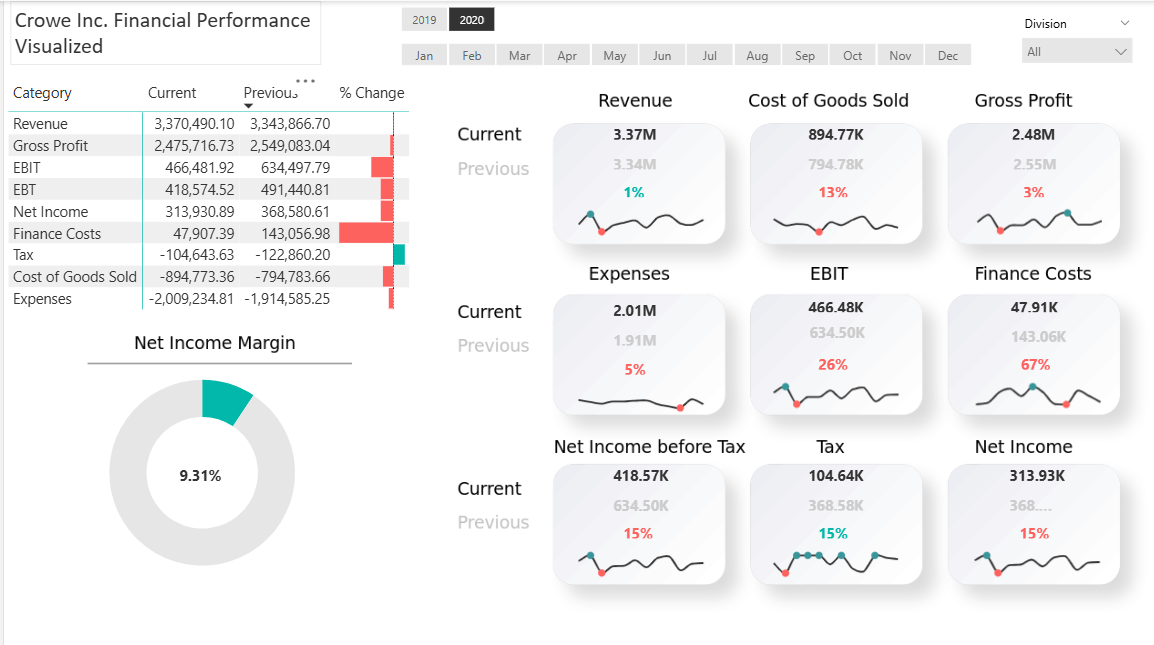

The page's visual inventory and layout, read from the dashboard file:
{"tool":"powerbi","page":{"name":"Financial Performance Snapshot","canvas":[1280,720],"ordinal":0},"visuals":[{"type":"pivotTable","fields":{"Rows":["Layout.Category"],"Values":["My Measure.Current","My Measure.Previuos","My Measure.% Change"]},"box":[0,82.5,475,310],"z":0},{"type":"slicer","fields":{"Values":["Calendar.Year"]},"box":[410.3,0,152.3,39.8],"z":1000},{"type":"donutChart","fields":{"Y":["My Measure.Net Income Margin","My Measure.Inv Net Income Margin"]},"box":[45,385,345,265],"z":2000},{"type":"cardVisual","fields":{"Data":["My Measure.Net Income Margin"]},"box":[175,472.5,82.5,87.5],"z":3000},{"type":"group","id":"g1","title":"Group 1","box":[613,126.2,175.5,138],"z":4000},{"type":"cardVisual","fields":{"Data":["KPI.Revenue Current"]},"box":[651.3,126.2,97.5,31.2],"z":4000,"group":"g1"},{"type":"cardVisual","fields":{"Data":["KPI.Gross Profit Current"]},"box":[1090,126.2,97.5,31.2],"z":4000,"group":"g2"},{"type":"cardVisual","fields":{"Data":["KPI.EBIT Current"]},"box":[866.3,315,97.5,31.2],"z":4000,"group":"g4"},{"type":"cardVisual","fields":{"Data":["KPI.Expenses Current"]},"box":[651,320,97.5,31.2],"z":4000,"group":"g3"},{"type":"cardVisual","fields":{"Data":["KPI.EBT Current"]},"box":[651.3,501,97.5,31.2],"z":4000,"group":"g7"},{"type":"cardVisual","fields":{"Data":["KPI.Net Profit Current"]},"box":[1087.3,501,97.5,31.2],"z":4000,"group":"g9"},{"type":"cardVisual","fields":{"Data":["KPI.COGS Current"]},"box":[866.3,126.2,97.5,31.2],"z":5000,"group":"g5"},{"type":"group","id":"g2","title":"Group 1","box":[1050.9,126.2,175,137.2],"z":5000},{"type":"cardVisual","fields":{"Data":["KPI.Gross Profit Previous"]},"box":[1090.3,157.1,95,32.5],"z":5000,"group":"g2"},{"type":"cardVisual","fields":{"Data":["KPI.Revenue Previous"]},"box":[651.3,157.4,88.8,32.5],"z":5000,"group":"g1"},{"type":"cardVisual","fields":{"Data":["KPI.Finance Costs Current"]},"box":[1088.8,315,97.5,31.2],"z":5000,"group":"g6"},{"type":"cardVisual","fields":{"Data":["KPI.EBIT Previous"]},"box":[868,337.9,100,41.4],"z":5000,"group":"g4"},{"type":"cardVisual","fields":{"Data":["KPI.Expenses Previous"]},"box":[651,351.2,88.8,32.5],"z":5000,"group":"g3"},{"type":"cardVisual","fields":{"Data":["KPI.Tax Current"]},"box":[866.8,501,97.5,31.2],"z":5000,"group":"g8"},{"type":"cardVisual","fields":{"Data":["KPI.EBIT Previous"]},"box":[651,532,95,33],"z":5000,"group":"g7"},{"type":"cardVisual","fields":{"Data":["KPI.Net Profit Previous"]},"box":[1087.3,532.2,88.8,32.5],"z":5000,"group":"g9"},{"type":"cardVisual","fields":{"Data":["KPI.COGS Previous"]},"box":[866.6,157.1,95,32.5],"z":6000,"group":"g5"},{"type":"cardVisual","fields":{"Data":["KPI.Revenue % Change"]},"box":[662.5,190,77.5,31.2],"z":6000,"group":"g1"},{"type":"cardVisual","fields":{"Data":["KPI.Gross Profit % Change"]},"box":[1101.2,190,77.5,31.2],"z":6000,"group":"g2"},{"type":"group","id":"g3","title":"Group 1","box":[612.7,320,175.5,138],"z":6000},{"type":"cardVisual","fields":{"Data":["KPI.Finance Costs Previous"]},"box":[1089.1,345.9,95,32.5],"z":6000,"group":"g6"},{"type":"cardVisual","fields":{"Data":["KPI.EBIT % Change"]},"box":[877.5,378.8,77.5,31.2],"z":6000,"group":"g4"},{"type":"cardVisual","fields":{"Data":["KPI.Expenses % Change"]},"box":[663,384,88,31],"z":6000,"group":"g3"},{"type":"cardVisual","fields":{"Data":["KPI.Net Income Previous"]},"box":[867.1,531.9,95,32.5],"z":6000,"group":"g8"},{"type":"cardVisual","fields":{"Data":["KPI.EBT % Change"]},"box":[662.5,564.8,77.5,31.2],"z":6000,"group":"g7"},{"type":"cardVisual","fields":{"Data":["KPI.Net Profit % Change"]},"box":[1098.5,564.8,77.5,31.2],"z":6000,"group":"g9"},{"type":"PBI_CV_25997FEB_F466_44FA_B562_AC4063283C4C","fields":{"axis":["Calendar.First Characters"],"measure":["My Measure.Gross Profit"]},"box":[1050.9,215.9,175,47.5],"z":7000,"group":"g2"},{"type":"PBI_CV_25997FEB_F466_44FA_B562_AC4063283C4C","fields":{"axis":["Calendar.First Characters"],"measure":["My Measure.Revenue"]},"box":[613,216.9,175.5,47.3],"z":7000,"group":"g1"},{"type":"group","id":"g4","title":"Group 1","box":[828,315,175.5,138],"z":7000},{"type":"PBI_CV_25997FEB_F466_44FA_B562_AC4063283C4C","fields":{"axis":["Calendar.First Characters"],"measure":["My Measure.EBIT"]},"box":[828,405.7,175.5,47.3],"z":7000,"group":"g4"},{"type":"PBI_CV_25997FEB_F466_44FA_B562_AC4063283C4C","fields":{"axis":["Calendar.First Characters"],"measure":["My Measure.Expenses"]},"box":[612.7,410.7,175.5,47.3],"z":7000,"group":"g3"},{"type":"PBI_CV_25997FEB_F466_44FA_B562_AC4063283C4C","fields":{"axis":["Calendar.First Characters"],"measure":["My Measure.EBT"]},"box":[613,591.7,175.5,47.3],"z":7000,"group":"g7"},{"type":"PBI_CV_25997FEB_F466_44FA_B562_AC4063283C4C","fields":{"axis":["Calendar.First Characters"],"measure":["My Measure.Net Income"]},"box":[1049,591.7,175.5,47.3],"z":7000,"group":"g9"},{"type":"group","id":"g5","title":"Group 2","box":[827.5,126.2,175,137.5],"z":8000},{"type":"cardVisual","fields":{"Data":["KPI.COGS % Change"]},"box":[877.5,190,77.5,31.2],"z":8000,"group":"g5"},{"type":"cardVisual","fields":{"Data":["KPI.Finance Costs % Change"]},"box":[1100,378.8,77.5,31.2],"z":8000,"group":"g6"},{"type":"cardVisual","fields":{"Data":["KPI.Tax % Change"]},"box":[878,564.8,77.5,31.2],"z":8000,"group":"g8"},{"type":"PBI_CV_25997FEB_F466_44FA_B562_AC4063283C4C","fields":{"axis":["Calendar.First Characters"],"measure":["My Measure.COGS"]},"box":[827.5,216.2,175,47.5],"z":9000,"group":"g5"},{"type":"group","id":"g6","title":"Group 2","box":[1050,315,175,138],"z":9000},{"type":"PBI_CV_25997FEB_F466_44FA_B562_AC4063283C4C","fields":{"axis":["Calendar.First Characters"],"measure":["My Measure.Fianance Costs"]},"box":[1050,405,175,47.5],"z":9000,"group":"g6"},{"type":"PBI_CV_25997FEB_F466_44FA_B562_AC4063283C4C","fields":{"axis":["Calendar.First Characters"],"measure":["My Measure.Tax"]},"box":[828,591,175,47.5],"z":9000,"group":"g8"},{"type":"group","id":"g7","title":"Group 1","box":[613,501,175.5,138],"z":10000},{"type":"group","id":"g8","title":"Group 2","box":[828,501,175,138],"z":11000},{"type":"group","id":"g9","title":"Group 1","box":[1049,501,175,138],"z":12000},{"type":"slicer","fields":{"Values":["Division.Division"]},"box":[1107.4,11,141.3,59],"z":13000},{"type":"slicer","fields":{"Values":["Calendar.First Characters"]},"box":[410.3,39.8,675.1,30.2],"z":14000},{"type":"textbox","box":[6.9,0,341.7,70],"z":15000}]}

Visuals, with their boxes in screenshot pixels (x1, y1, x2, y2), scaled from the page's 1280x720 canvas onto the 1154x645 screenshot:
pivotTable - Layout.Category x My Measure.Current: <box>0,74,428,352</box>
slicer - Calendar.Year: <box>370,0,507,36</box>
donutChart - My Measure.Net Income Margin x My Measure.Inv Net Income Margin: <box>41,345,352,582</box>
cardVisual - My Measure.Net Income Margin: <box>158,423,232,502</box>
"Group 1" group: <box>553,113,711,237</box>
cardVisual - KPI.Revenue Current: <box>587,113,675,141</box>
cardVisual - KPI.Gross Profit Current: <box>983,113,1071,141</box>
cardVisual - KPI.EBIT Current: <box>781,282,869,310</box>
cardVisual - KPI.Expenses Current: <box>587,287,675,315</box>
cardVisual - KPI.EBT Current: <box>587,449,675,477</box>
cardVisual - KPI.Net Profit Current: <box>980,449,1068,477</box>
cardVisual - KPI.COGS Current: <box>781,113,869,141</box>
"Group 1" group: <box>947,113,1105,236</box>
cardVisual - KPI.Gross Profit Previous: <box>983,141,1069,170</box>
cardVisual - KPI.Revenue Previous: <box>587,141,667,170</box>
cardVisual - KPI.Finance Costs Current: <box>982,282,1070,310</box>
cardVisual - KPI.EBIT Previous: <box>783,303,873,340</box>
cardVisual - KPI.Expenses Previous: <box>587,315,667,344</box>
cardVisual - KPI.Tax Current: <box>781,449,869,477</box>
cardVisual - KPI.EBIT Previous: <box>587,477,673,506</box>
cardVisual - KPI.Net Profit Previous: <box>980,477,1060,506</box>
cardVisual - KPI.COGS Previous: <box>781,141,867,170</box>
cardVisual - KPI.Revenue % Change: <box>597,170,667,198</box>
cardVisual - KPI.Gross Profit % Change: <box>993,170,1063,198</box>
"Group 1" group: <box>552,287,711,410</box>
cardVisual - KPI.Finance Costs Previous: <box>982,310,1068,339</box>
cardVisual - KPI.EBIT % Change: <box>791,339,861,367</box>
cardVisual - KPI.Expenses % Change: <box>598,344,677,372</box>
cardVisual - KPI.Net Income Previous: <box>782,476,867,506</box>
cardVisual - KPI.EBT % Change: <box>597,506,667,534</box>
cardVisual - KPI.Net Profit % Change: <box>990,506,1060,534</box>
PBI_CV_25997FEB_F466_44FA_B562_AC4063283C4C - Calendar.First Characters x My Measure.Gross Profit: <box>947,193,1105,236</box>
PBI_CV_25997FEB_F466_44FA_B562_AC4063283C4C - Calendar.First Characters x My Measure.Revenue: <box>553,194,711,237</box>
"Group 1" group: <box>746,282,905,406</box>
PBI_CV_25997FEB_F466_44FA_B562_AC4063283C4C - Calendar.First Characters x My Measure.EBIT: <box>746,363,905,406</box>
PBI_CV_25997FEB_F466_44FA_B562_AC4063283C4C - Calendar.First Characters x My Measure.Expenses: <box>552,368,711,410</box>
PBI_CV_25997FEB_F466_44FA_B562_AC4063283C4C - Calendar.First Characters x My Measure.EBT: <box>553,530,711,572</box>
PBI_CV_25997FEB_F466_44FA_B562_AC4063283C4C - Calendar.First Characters x My Measure.Net Income: <box>946,530,1104,572</box>
"Group 2" group: <box>746,113,904,236</box>
cardVisual - KPI.COGS % Change: <box>791,170,861,198</box>
cardVisual - KPI.Finance Costs % Change: <box>992,339,1062,367</box>
cardVisual - KPI.Tax % Change: <box>792,506,861,534</box>
PBI_CV_25997FEB_F466_44FA_B562_AC4063283C4C - Calendar.First Characters x My Measure.COGS: <box>746,194,904,236</box>
"Group 2" group: <box>947,282,1104,406</box>
PBI_CV_25997FEB_F466_44FA_B562_AC4063283C4C - Calendar.First Characters x My Measure.Fianance Costs: <box>947,363,1104,405</box>
PBI_CV_25997FEB_F466_44FA_B562_AC4063283C4C - Calendar.First Characters x My Measure.Tax: <box>746,529,904,572</box>
"Group 1" group: <box>553,449,711,572</box>
"Group 2" group: <box>746,449,904,572</box>
"Group 1" group: <box>946,449,1104,572</box>
slicer - Division.Division: <box>998,10,1126,63</box>
slicer - Calendar.First Characters: <box>370,36,979,63</box>
textbox: <box>6,0,314,63</box>
